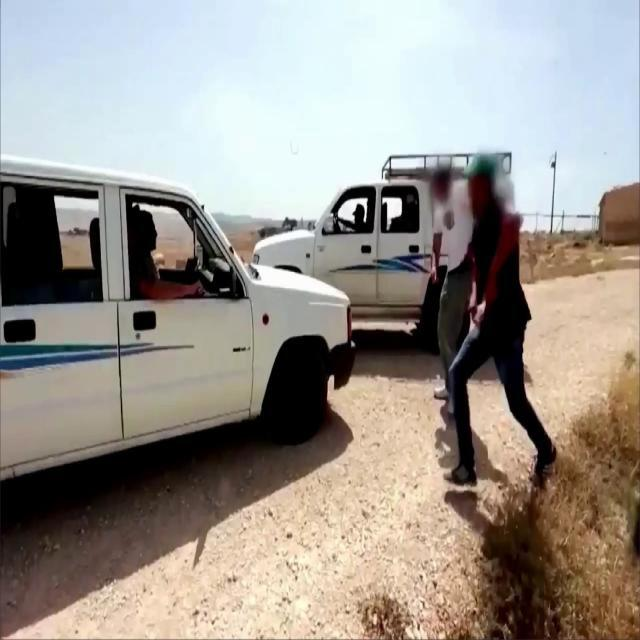weapon: (460, 300, 478, 325)
